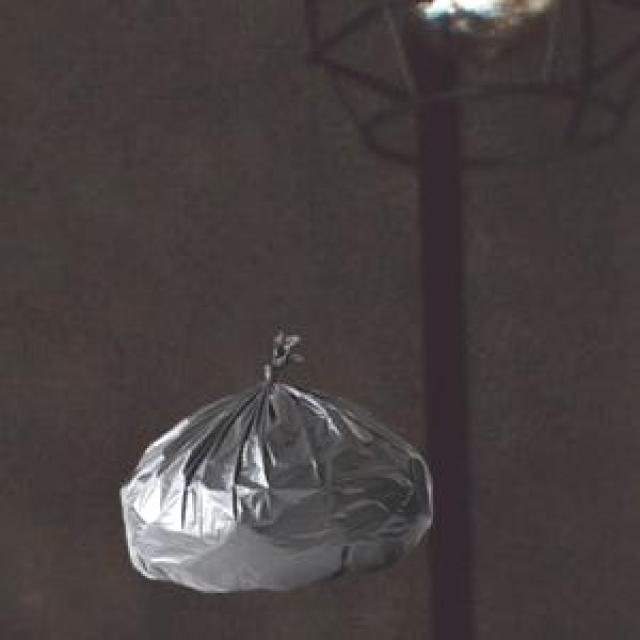Trashbag: (114, 326, 439, 600)
